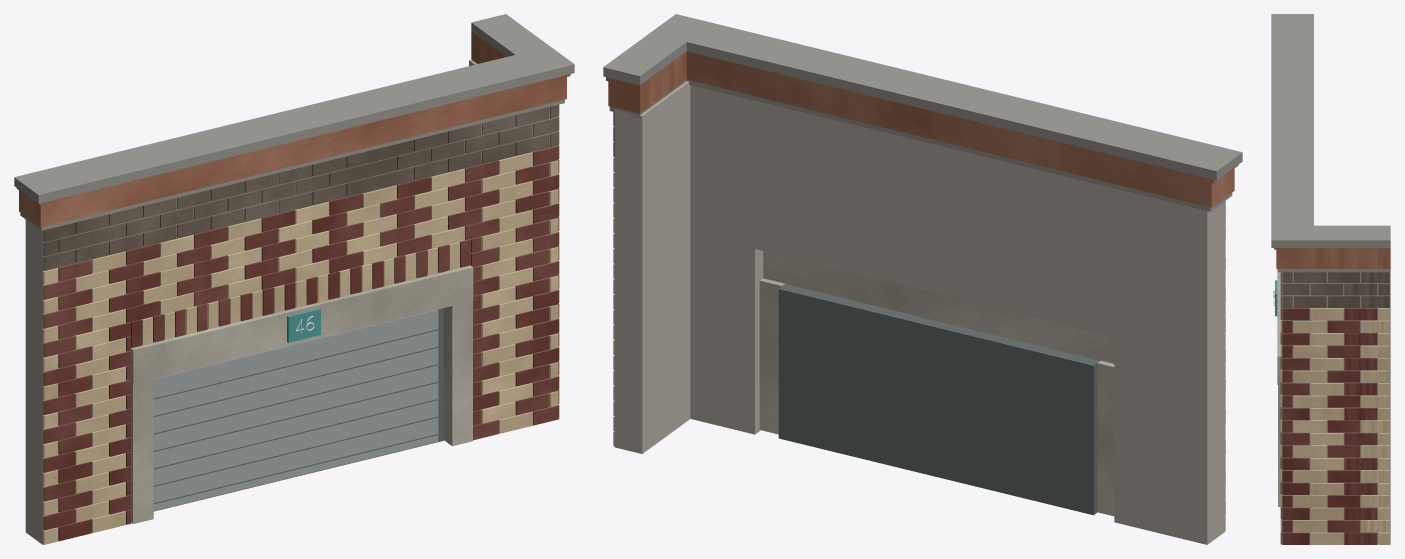
File: xinle-46-two-tone-tilework-far.glb
The picture shows the model from 3 angles, left to right: view 1: azimuth 30°, elevation 25°; view 2: azimuth 150°, elevation 25°; view 3: azimuth 270°, elevation 25°; orthographic projection. The views are drawn at different scales.
Visible parts, largest first — view 1: 慎成里新乐路46号双色陶面砖与竖砖过梁; view 2: 慎成里新乐路46号双色陶面砖与竖砖过梁; view 3: 慎成里新乐路46号双色陶面砖与竖砖过梁.
Boxes of the visible parts, x1,y1,x2,y2 form: 慎成里新乐路46号双色陶面砖与竖砖过梁: (14,14,574,544); 慎成里新乐路46号双色陶面砖与竖砖过梁: (603,14,1242,544); 慎成里新乐路46号双色陶面砖与竖砖过梁: (1271,14,1390,544).
Bounding box in the file's own units: 4.83 × 3.07 × 1.07.
Materials: 11 (5 with a texture image).
